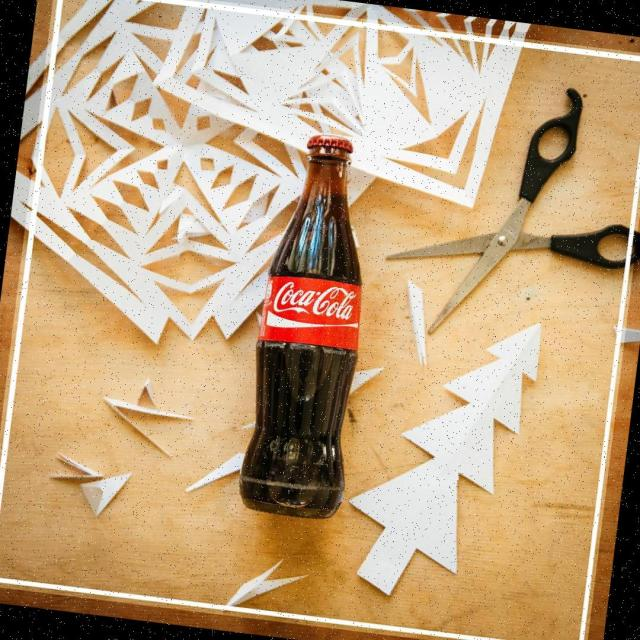coca-cola: (230, 127, 390, 528)
